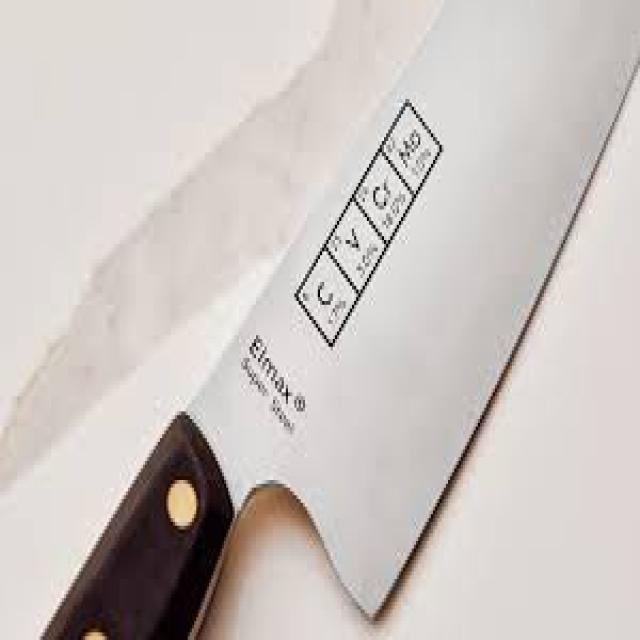knives: (32, 0, 636, 636)
